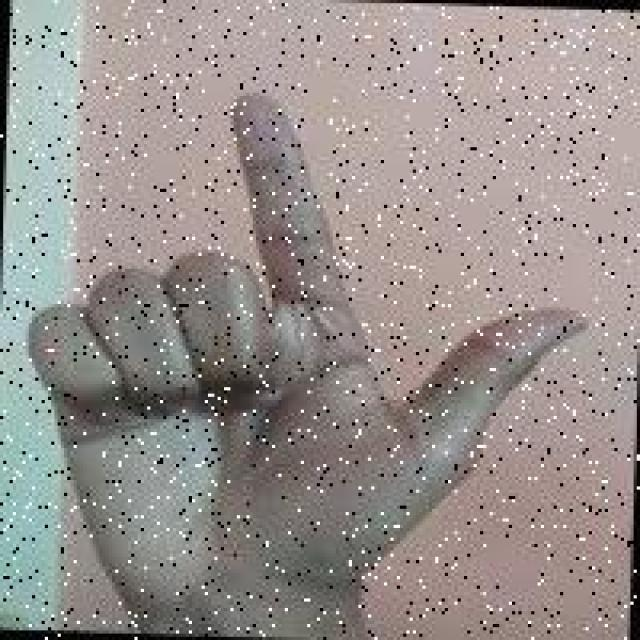L: (16, 66, 598, 616)
